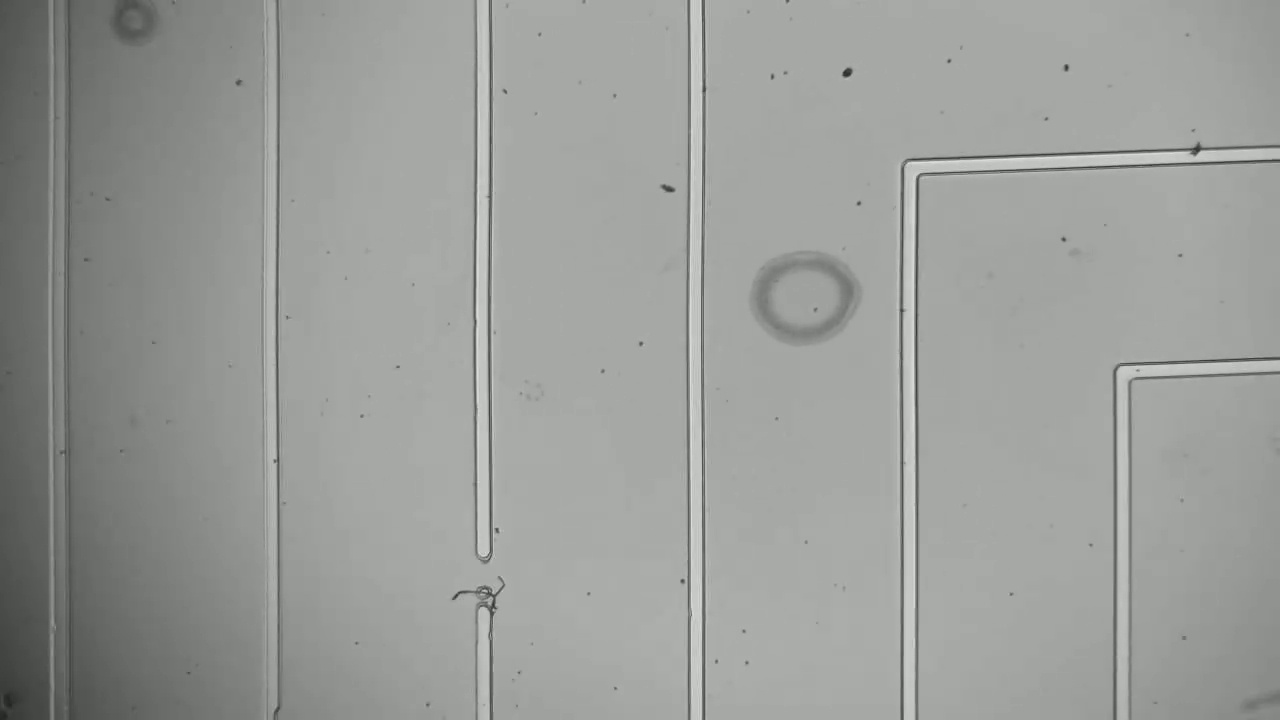edge_bite: (255, 698, 286, 719)
open: (467, 542, 499, 628)
stains_enbedded: (1182, 137, 1210, 173)
